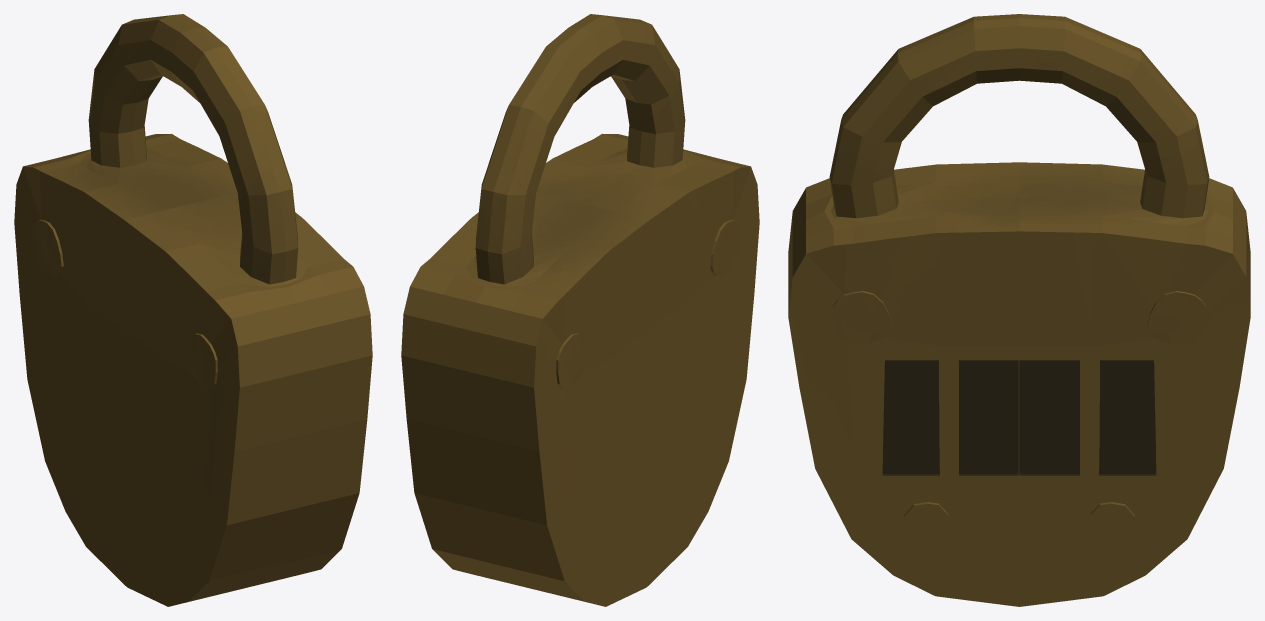
File: Lock 4 digt.fbx
3 views of the same model, side by side, from view 1: azimuth 30°, elevation 25°; view 2: azimuth 150°, elevation 25°; view 3: azimuth 270°, elevation 25° (orthographic). The views are drawn at different scales.
Parts seen in each view (by area): view 1: LOck; view 2: LOck; view 3: LOck.
Part boxes in pixels (x1,y1,x2,y2): LOck: [14, 14, 372, 606]; LOck: [401, 14, 759, 606]; LOck: [788, 14, 1250, 606].
Size of the model in its own units: 2.84 by 10.54 by 7.94.
1 material, 1 textured.
